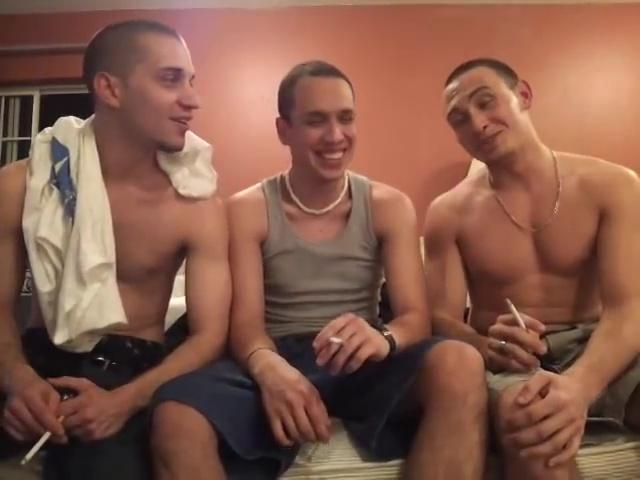cigarette: (20, 414, 67, 467), (503, 294, 529, 332), (328, 336, 349, 346)
